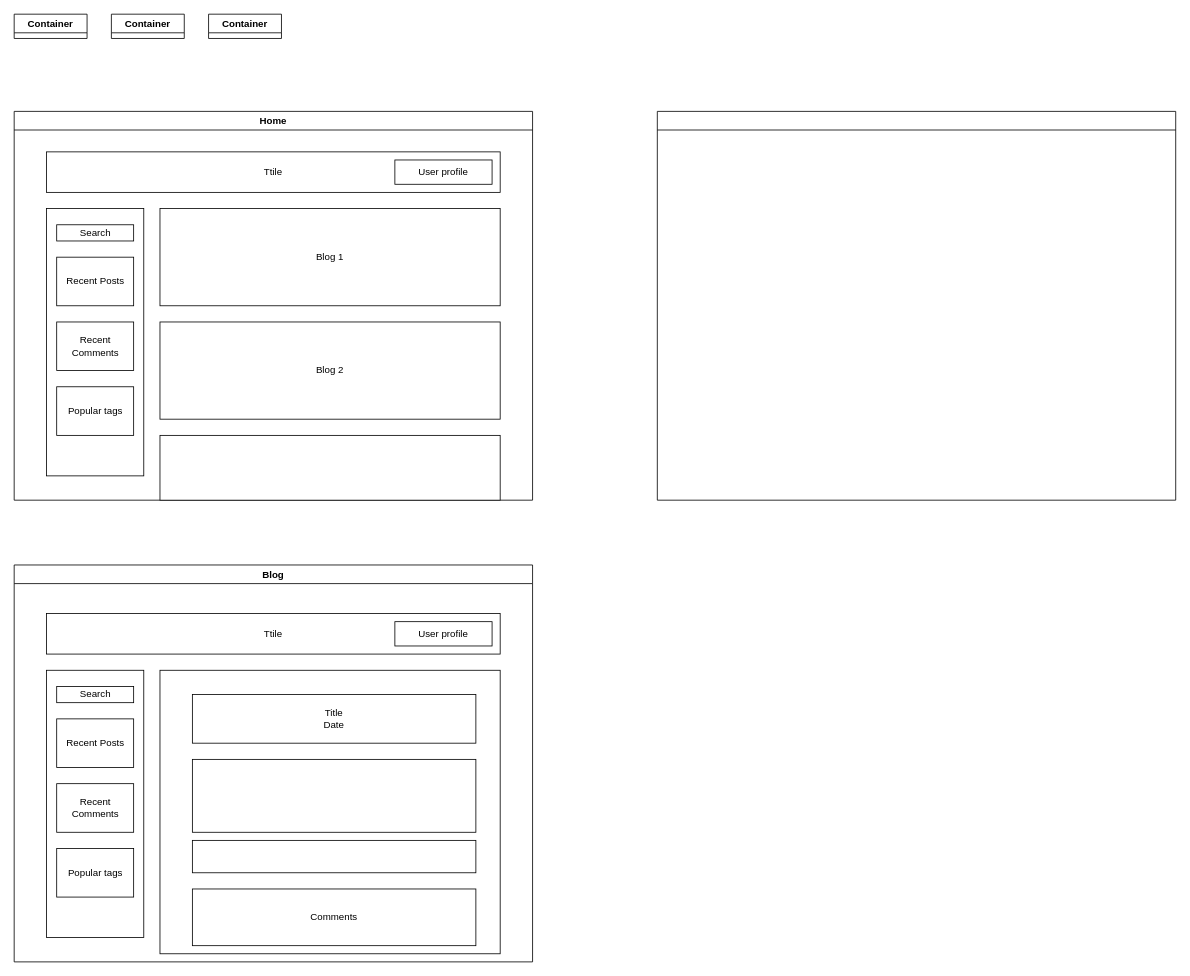
This 1190x976 diagram has some shape labels left out. Here are the shapes that lost their labels. From the top down, the centre of each, then its label:
[916,305]: User
[334,795]: Content
[334,856]: Recomended
